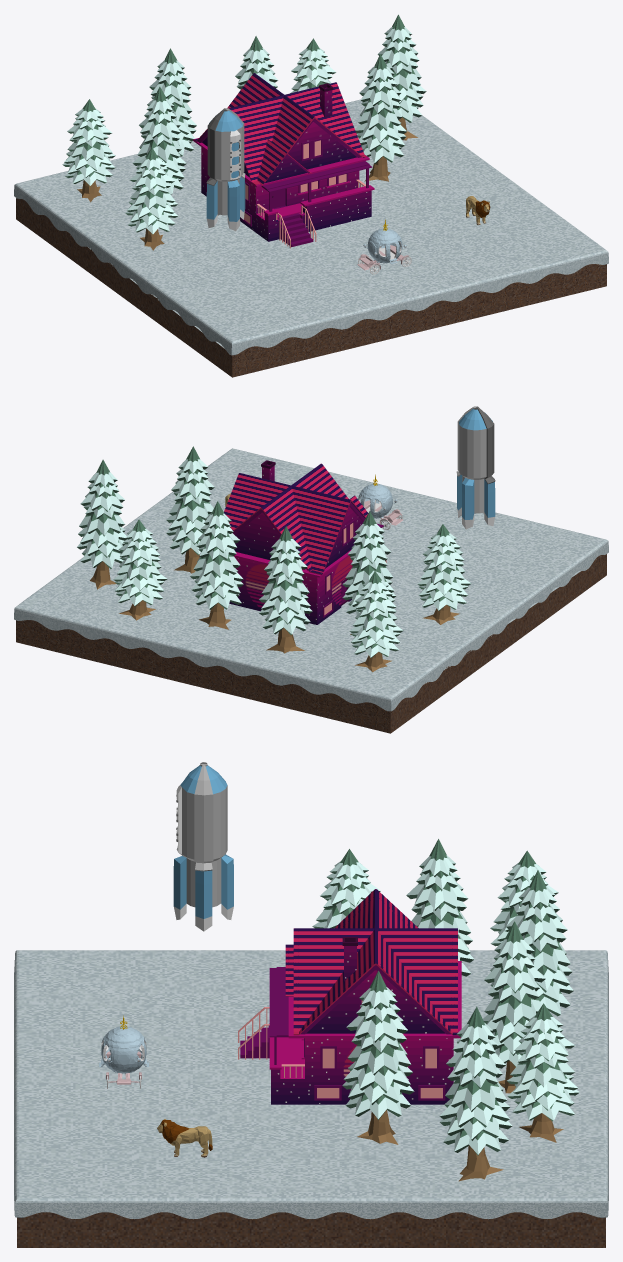
3 views of the same model, one above another, from view 1: azimuth 30°, elevation 25°; view 2: azimuth 150°, elevation 25°; view 3: azimuth 270°, elevation 25° (orthographic). The views are drawn at different scales.
Visible parts, largest first — view 1: Cube.003, Cube.156, OBJRANDOM_ROCKETSHIP, VEHICLES_FANTASY_CARRIAGE; view 2: Cube.003, Cube.156, OBJRANDOM_ROCKETSHIP, VEHICLES_FANTASY_CARRIAGE; view 3: Cube.003, Cube.156, OBJRANDOM_ROCKETSHIP, VEHICLES_FANTASY_CARRIAGE, ANIMAL_LEON.
Boxes of the visible parts, <box> form: Cube.003: <box>14,14,608,377</box>; Cube.156: <box>193,73,374,248</box>; OBJRANDOM_ROCKETSHIP: <box>206,108,245,231</box>; VEHICLES_FANTASY_CARRIAGE: <box>357,219,411,274</box>; Cube.003: <box>14,446,608,733</box>; Cube.156: <box>224,460,386,624</box>; OBJRANDOM_ROCKETSHIP: <box>456,406,495,529</box>; VEHICLES_FANTASY_CARRIAGE: <box>358,474,403,529</box>; Cube.003: <box>14,839,608,1247</box>; Cube.156: <box>238,889,461,1104</box>; OBJRANDOM_ROCKETSHIP: <box>173,762,233,931</box>; VEHICLES_FANTASY_CARRIAGE: <box>99,1015,148,1088</box>; ANIMAL_LEON: <box>157,1119,212,1157</box>.
Size of the model in its own units: 4040 by 2159 by 4040.
Materials: 29 (5 with a texture image).
